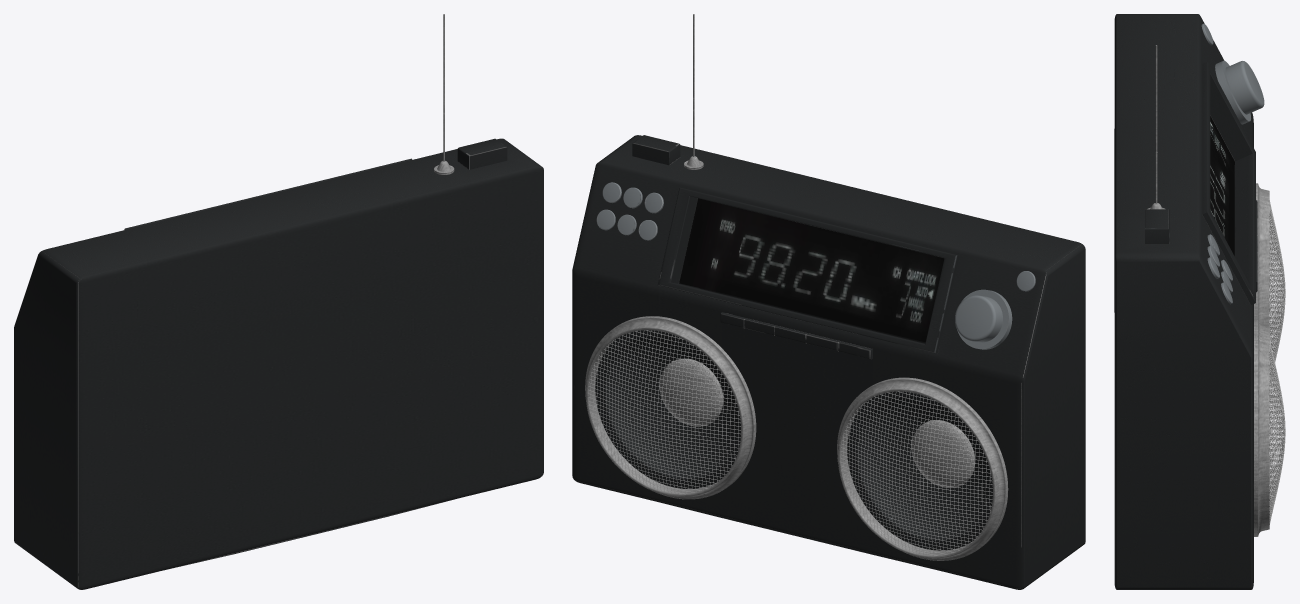
File: radio.fbx
The picture shows the model from 3 angles, left to right: view 1: azimuth 30°, elevation 25°; view 2: azimuth 150°, elevation 25°; view 3: azimuth 270°, elevation 25°; orthographic projection. The views are drawn at different scales.
Parts seen in each view (by area): view 1: radio#; view 2: radio#; view 3: radio#.
Part boxes in pixels (x1,y1,x2,y2): radio#: (14, 14, 543, 589); radio#: (572, 14, 1085, 589); radio#: (1114, 14, 1285, 589).
Bounding box in the file's own units: 384 × 369 × 113.
